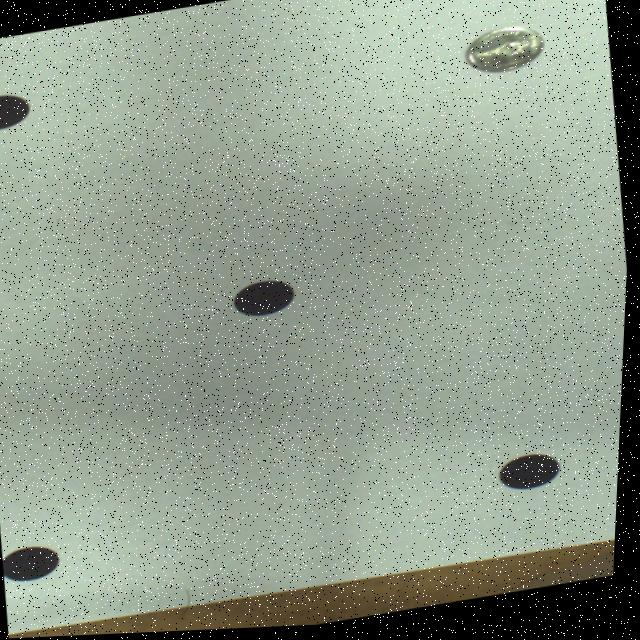space: (236, 282, 296, 318), (503, 458, 563, 493), (8, 546, 65, 580), (0, 94, 30, 127)
tail1bath: (466, 30, 543, 76)
